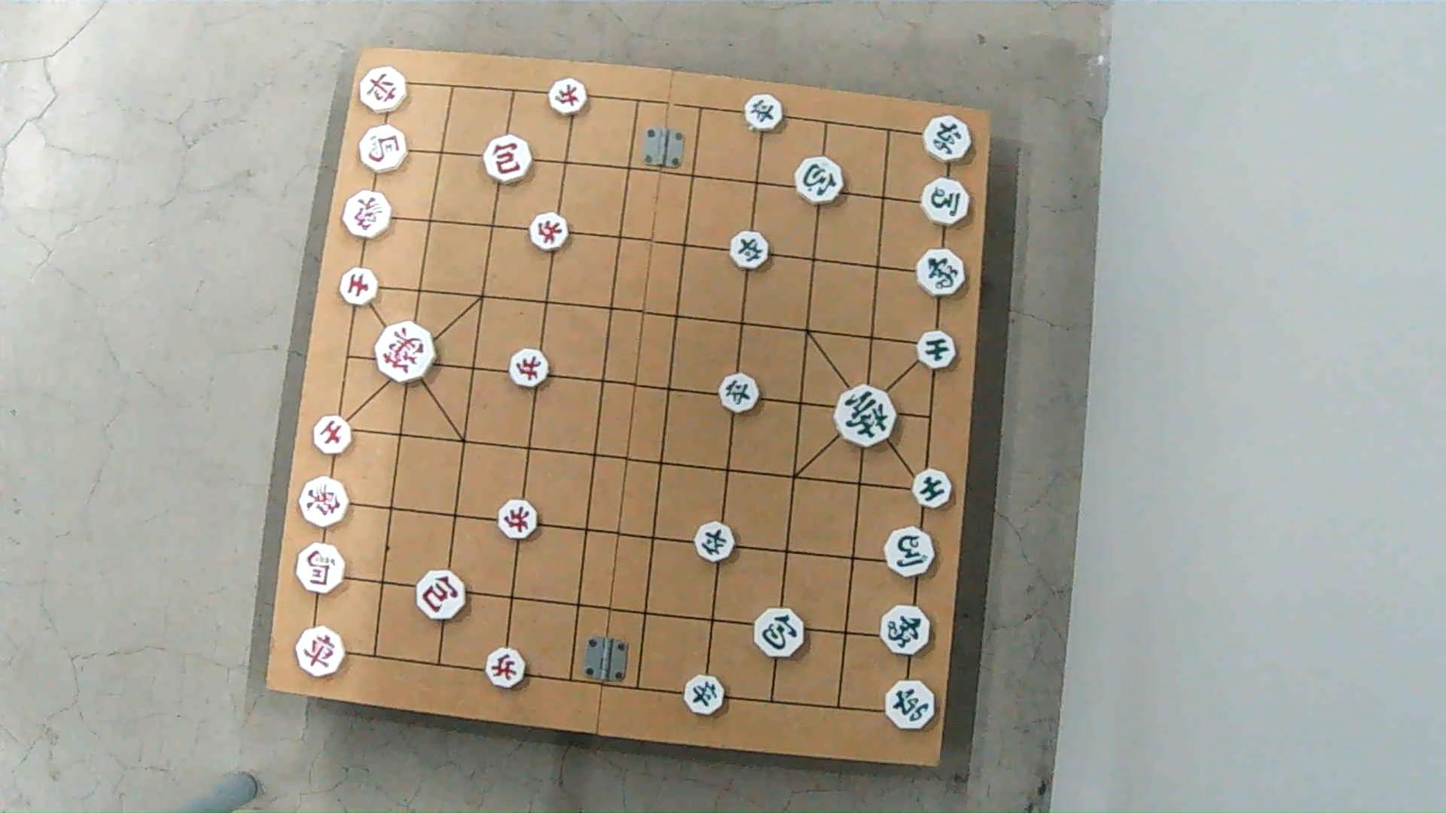cha_green: (883, 680, 938, 730), (923, 118, 975, 162)
cha_red: (293, 629, 348, 678), (358, 71, 410, 111)
jol_green: (728, 230, 773, 269), (685, 676, 728, 713), (724, 373, 767, 410), (694, 524, 738, 560), (745, 96, 788, 129)
jol_red: (484, 651, 526, 689), (495, 504, 538, 540), (509, 352, 554, 386), (530, 216, 573, 250), (548, 82, 589, 114)
ma_green: (883, 529, 938, 574), (923, 179, 976, 223)
ma_red: (295, 547, 345, 594), (360, 126, 412, 171)
po_green: (795, 154, 848, 203), (753, 608, 807, 654)
po_red: (415, 573, 468, 619), (482, 138, 532, 184)
sa_green: (917, 331, 959, 371), (911, 472, 955, 507)
sa_red: (337, 264, 383, 309), (310, 417, 352, 452)
sang_green: (919, 246, 969, 299), (880, 607, 932, 654)
sang_red: (297, 480, 349, 526), (343, 195, 395, 239)
wang_green: (835, 389, 900, 445)
wang_red: (373, 322, 440, 382)
